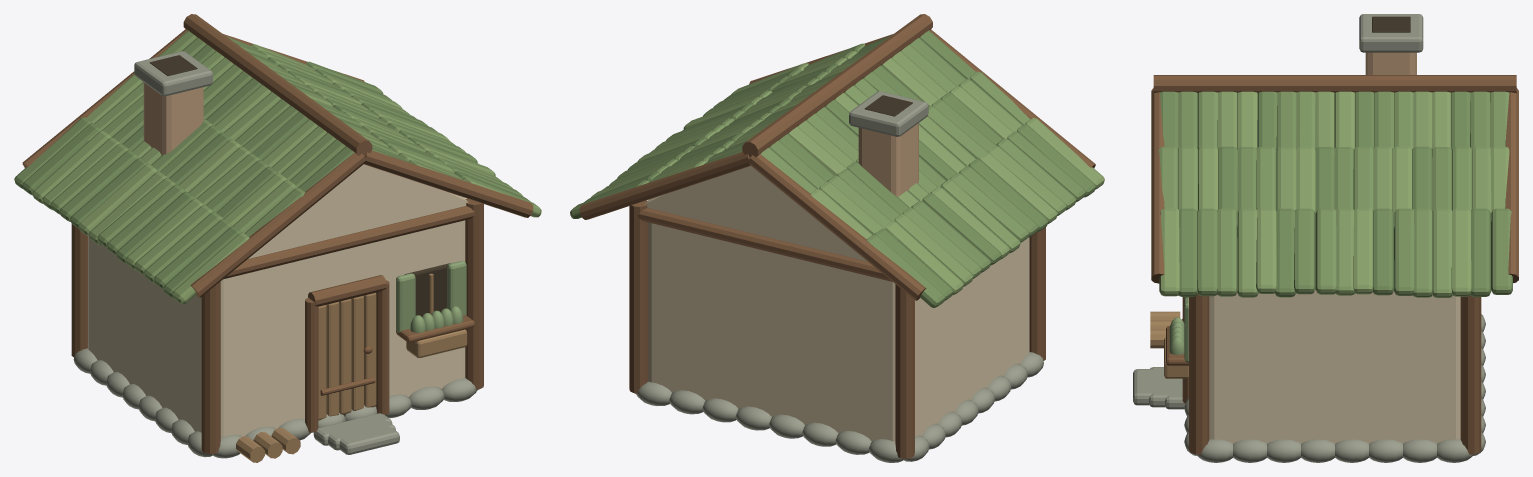
File: CC_House.fbx
3 views of the same model, side by side, from view 1: azimuth 30°, elevation 25°; view 2: azimuth 150°, elevation 25°; view 3: azimuth 270°, elevation 25° (orthographic). The views are drawn at different scales.
Visible parts, largest first — view 1: CC_House_StoryMesh; view 2: CC_House_StoryMesh; view 3: CC_House_StoryMesh.
Part boxes in pixels (box(x1,y1,x2,y2)): CC_House_StoryMesh: box(14, 14, 541, 462); CC_House_StoryMesh: box(570, 14, 1104, 462); CC_House_StoryMesh: box(1133, 14, 1518, 462).
Bounding box in the file's own units: 469 × 389 × 412.
